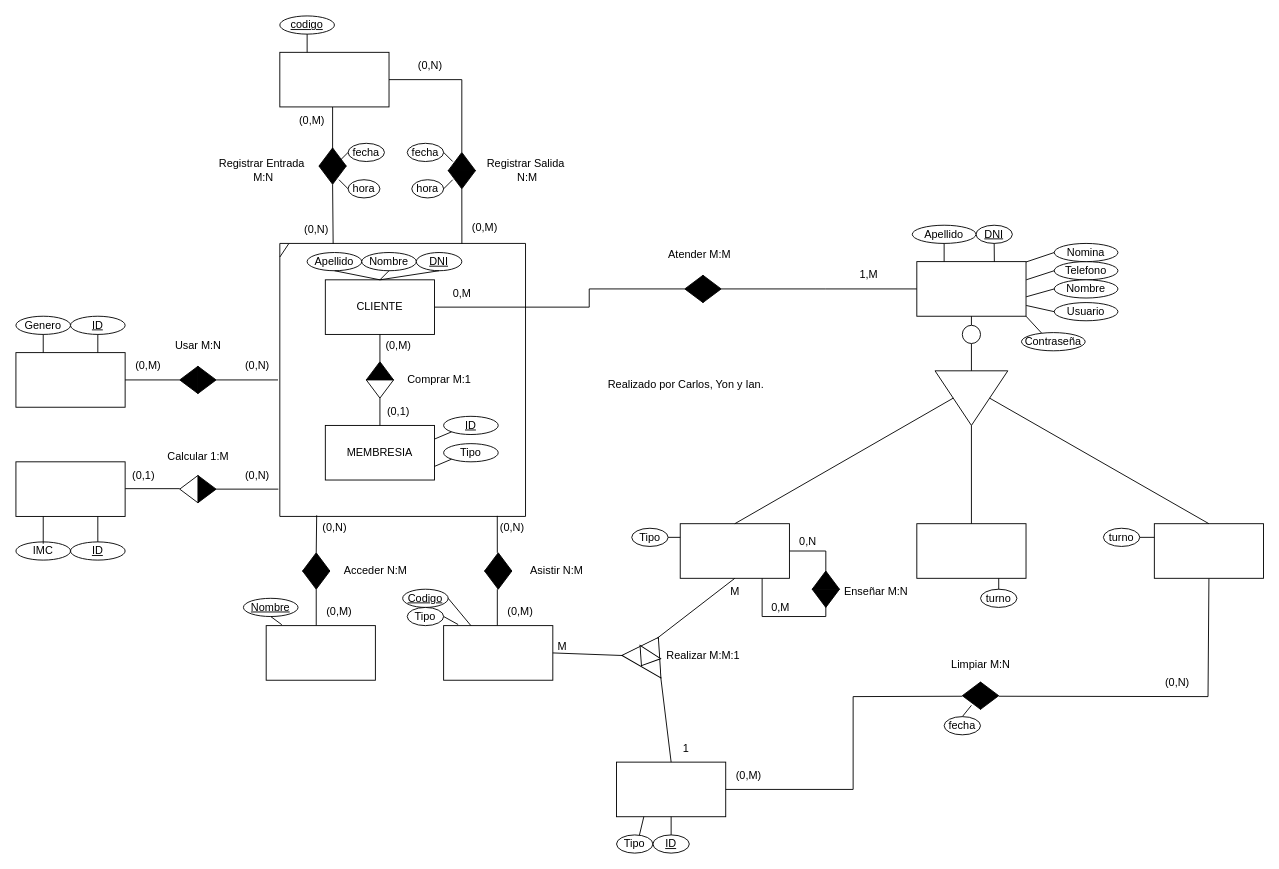
Image size: 1279x869. Some labels were removed from this diagram. The shapes that lost their labels are listed below. From the top down, each one's centre as x and y in pixels, then its label:
At point (334, 79): "REGISTRO ACCESO".
At point (971, 288): "EMPLEADOS".
At point (70, 379): "VESTUARIO".
At point (70, 488): "CALCULADORA".
At point (734, 550): "ENTRENADOR".
At point (971, 550): "RECEPCIONISTA".
At point (1208, 550): "LIMPIADOR".
At point (320, 652): "SPA".
At point (498, 652): "CLASES".
At point (671, 789): "ZONA ENTRENOS".
